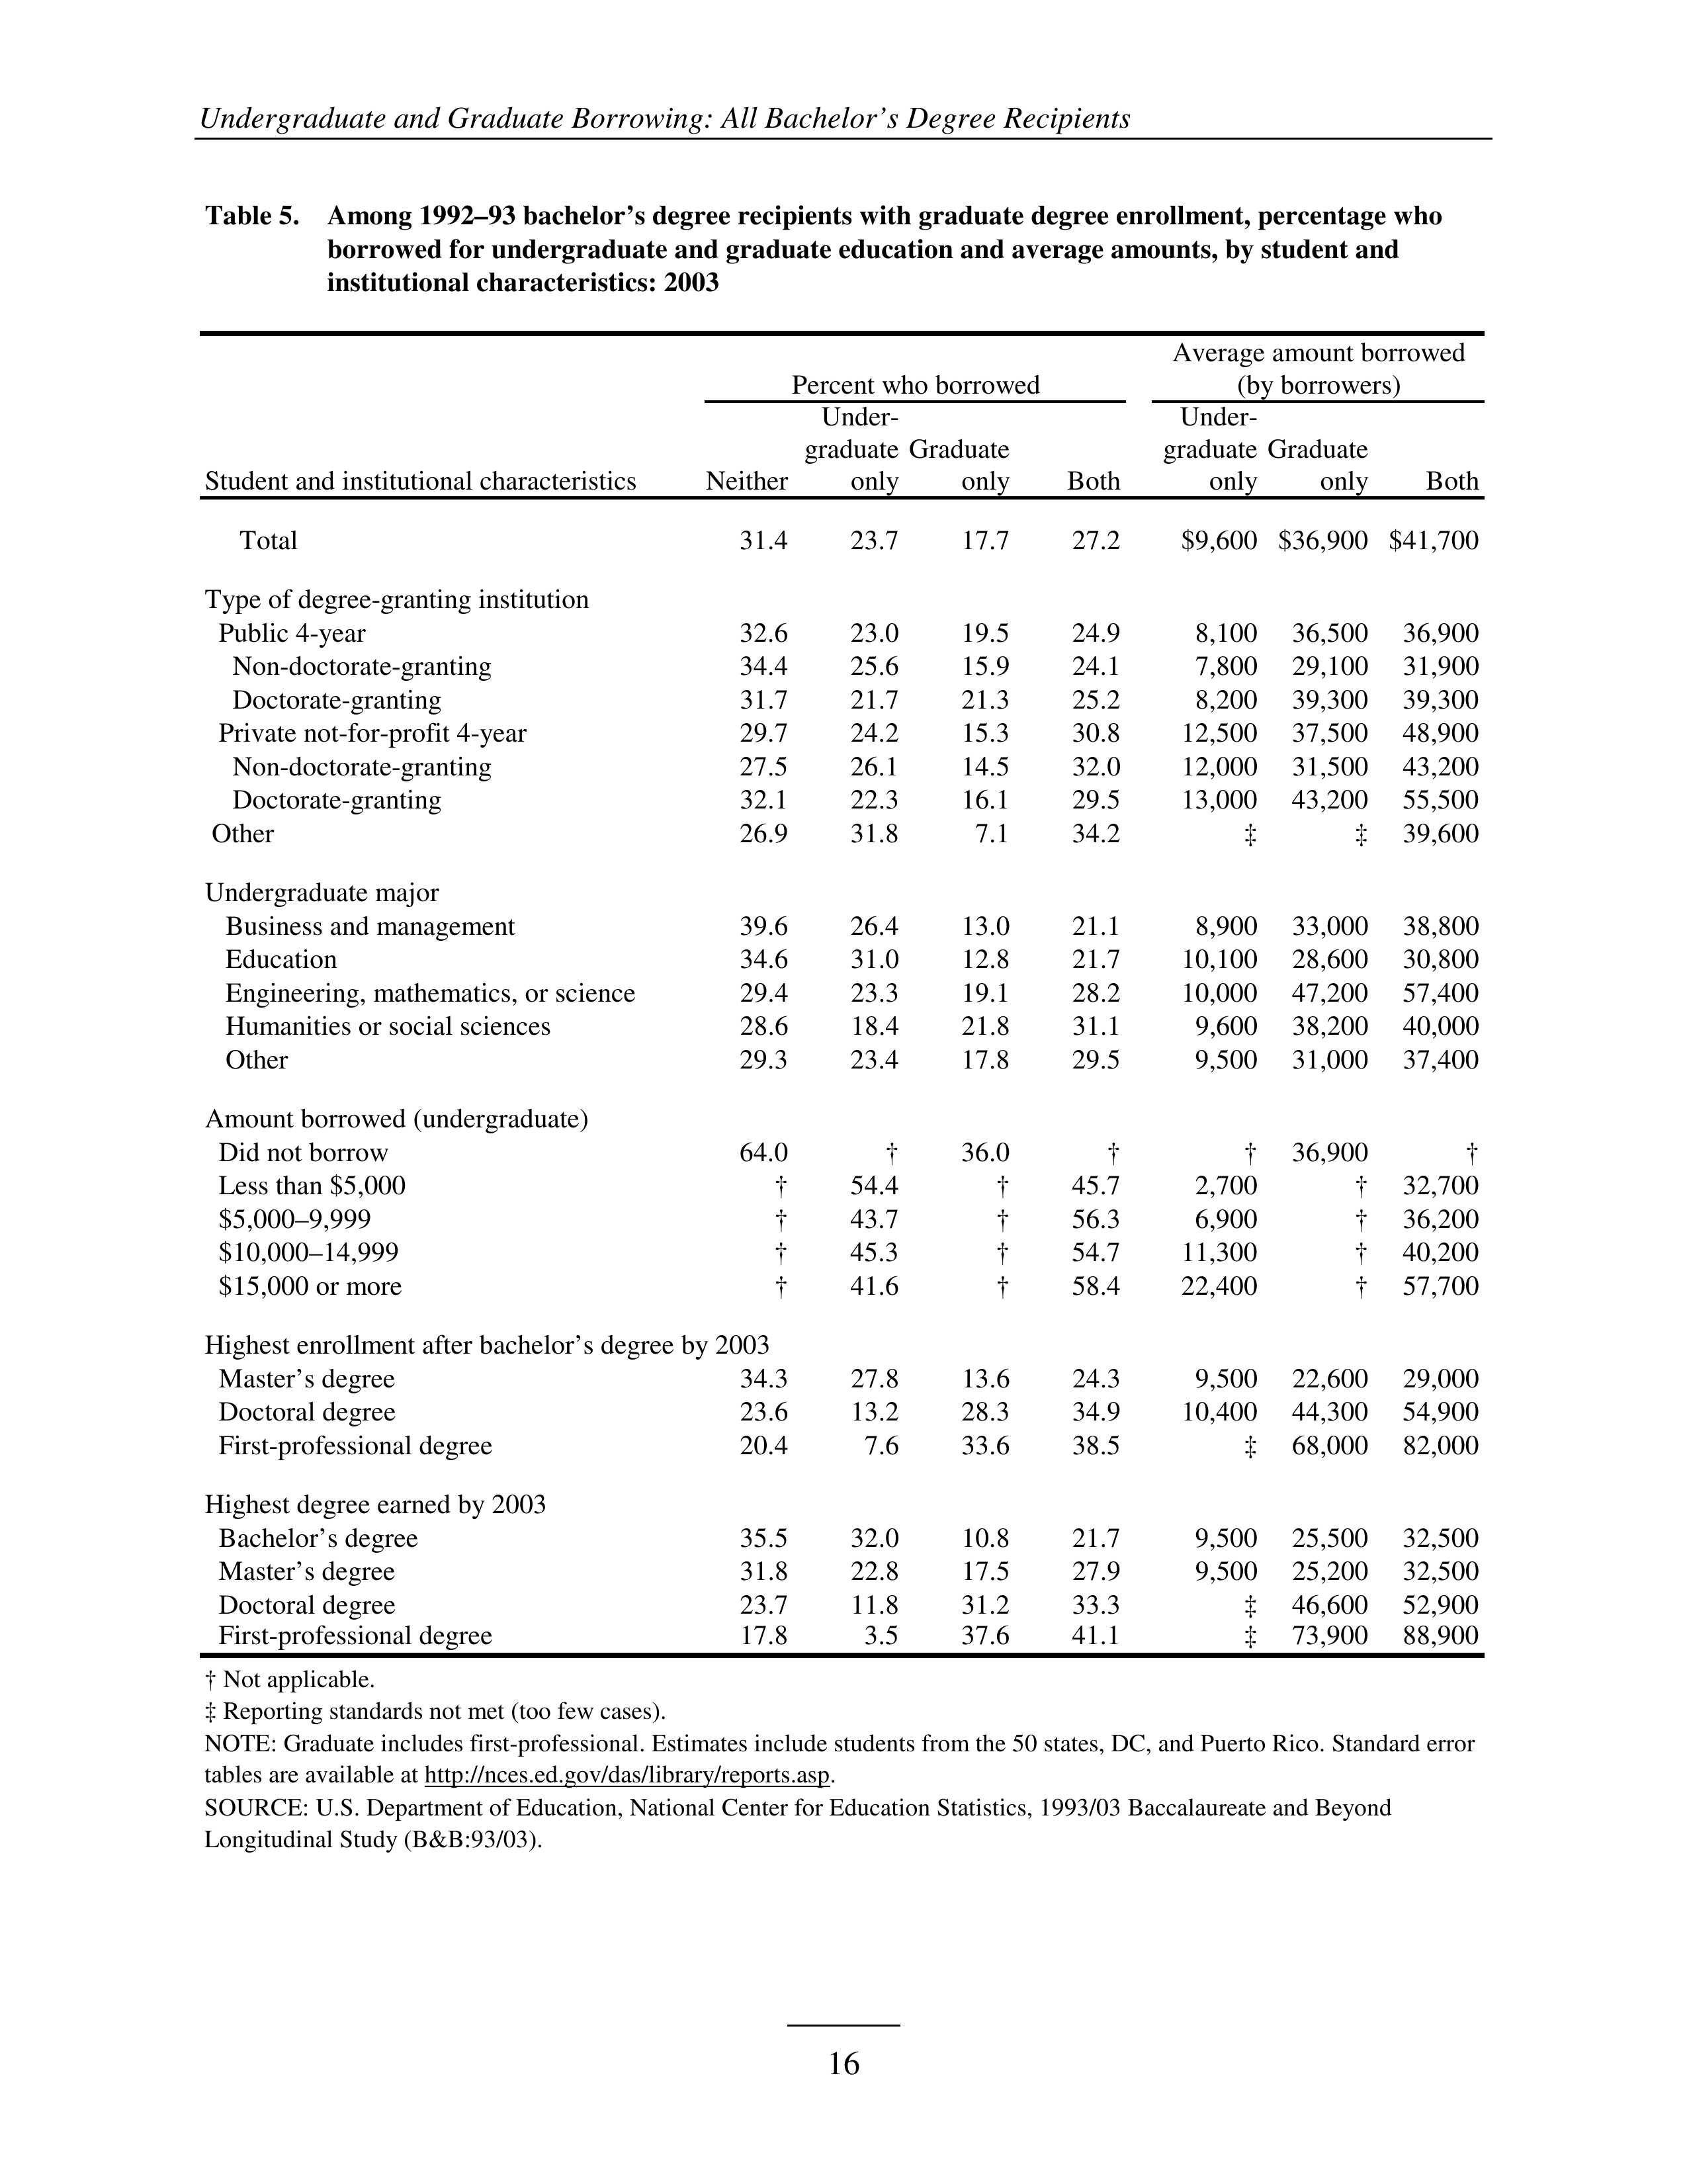table: (198, 328, 1487, 1661)
